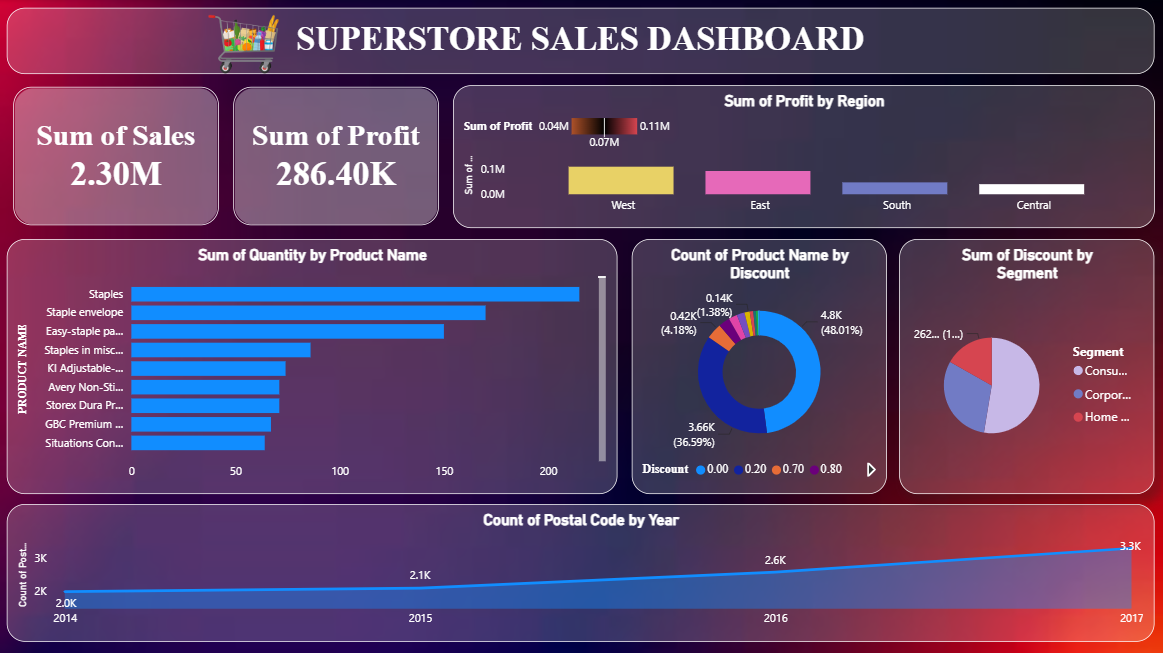

The dashboard page shown, as its layout file describes it:
{"tool":"powerbi","page":{"name":"Page 1","canvas":[1280,720],"ordinal":0},"visuals":[{"type":"columnChart","fields":{"Y":["Sum(Cleaned_Superstore.Profit)"],"Category":["Cleaned_Superstore.Region"]},"box":[499.5,94.7,769.8,156.4],"z":0},{"type":"clusteredBarChart","fields":{"Y":["Sum(Cleaned_Superstore.Quantity)"],"Category":["Cleaned_Superstore.Product Name"]},"box":[9.6,263.5,671,279.9],"z":1000},{"type":"areaChart","fields":{"Category":["Cleaned_Superstore.Order Date.Variation.Date Hierarchy.Year","Cleaned_Superstore.Order Date.Variation.Date Hierarchy.Quarter","Cleaned_Superstore.Order Date.Variation.Date Hierarchy.Month","Cleaned_Superstore.Order Date.Variation.Date Hierarchy.Day"],"Y":["CountNonNull(Cleaned_Superstore.Postal Code)"]},"box":[9.6,554.4,1259.7,150.9],"z":2000},{"type":"pieChart","fields":{"Category":["Cleaned_Superstore.Segment"],"Y":["Sum(Cleaned_Superstore.Discount)"]},"box":[989.4,263.5,279.9,279.9],"z":3000},{"type":"donutChart","fields":{"Y":["CountNonNull(Cleaned_Superstore.Product Name)"],"Category":["Cleaned_Superstore.Discount"]},"box":[695.7,263.5,279.9,279.9],"z":4000},{"type":"textbox","box":[9.6,9.6,1259.7,72.7],"z":7000},{"type":"cardVisual","fields":{"Data":["Sum(Cleaned_Superstore.Profit)"]},"box":[241.5,79.6,259.3,186.6],"z":7001},{"type":"cardVisual","fields":{"Data":["Sum(Cleaned_Superstore.Sales)"]},"box":[0,79.6,259.3,186.6],"z":7002},{"type":"image","box":[212.7,9.6,111.1,72.7],"z":7003}]}

Visuals, with their boxes in screenshot pixels (x1, y1, x2, y2), scaled from the page's 1280x720 canvas onto the 1163x653 screenshot:
columnChart - Sum(Cleaned_Superstore.Profit) x Cleaned_Superstore.Region: bbox(454, 86, 1153, 228)
clusteredBarChart - Sum(Cleaned_Superstore.Quantity) x Cleaned_Superstore.Product Name: bbox(9, 239, 618, 493)
areaChart - Cleaned_Superstore.Order Date.Variation.Date Hierarchy.Year x Cleaned_Superstore.Order Date.Variation.Date Hierarchy.Quarter: bbox(9, 503, 1153, 640)
pieChart - Cleaned_Superstore.Segment x Sum(Cleaned_Superstore.Discount): bbox(899, 239, 1153, 493)
donutChart - CountNonNull(Cleaned_Superstore.Product Name) x Cleaned_Superstore.Discount: bbox(632, 239, 886, 493)
textbox: bbox(9, 9, 1153, 75)
cardVisual - Sum(Cleaned_Superstore.Profit): bbox(219, 72, 455, 241)
cardVisual - Sum(Cleaned_Superstore.Sales): bbox(0, 72, 236, 241)
image: bbox(193, 9, 294, 75)
